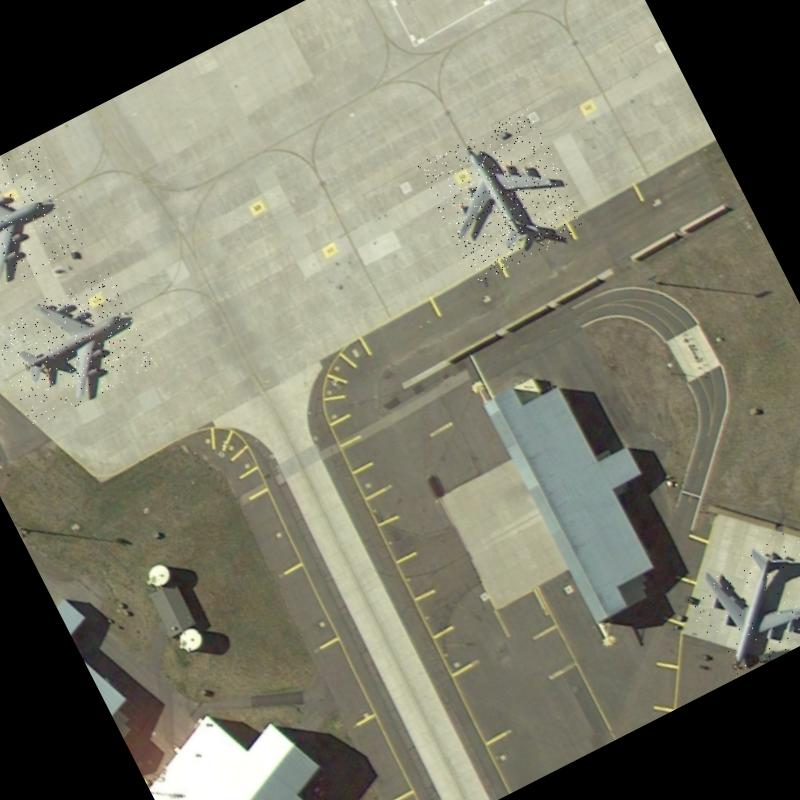A14: (416, 106, 590, 284), (0, 266, 158, 428), (676, 521, 800, 681), (0, 143, 91, 310)
